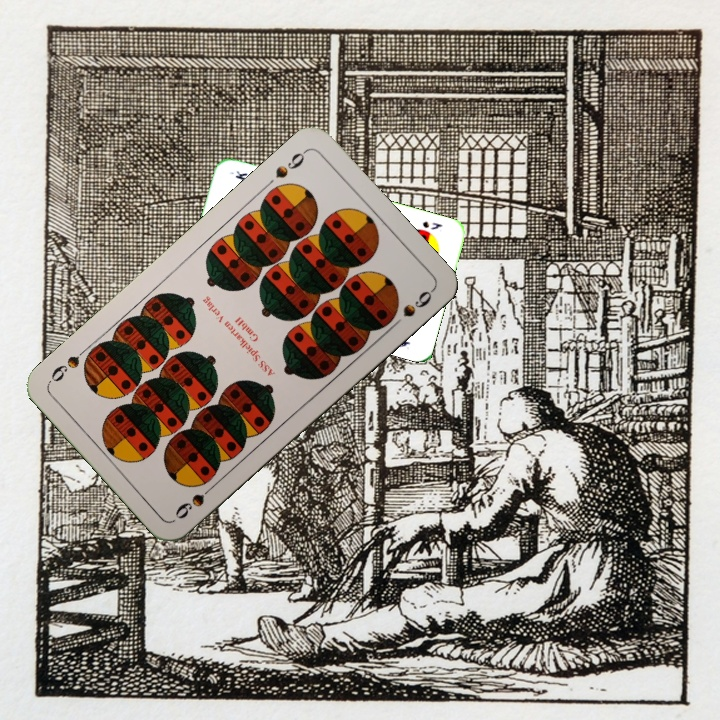S9: (171, 478, 220, 522), (271, 145, 310, 181)
SK: (418, 217, 445, 232)
